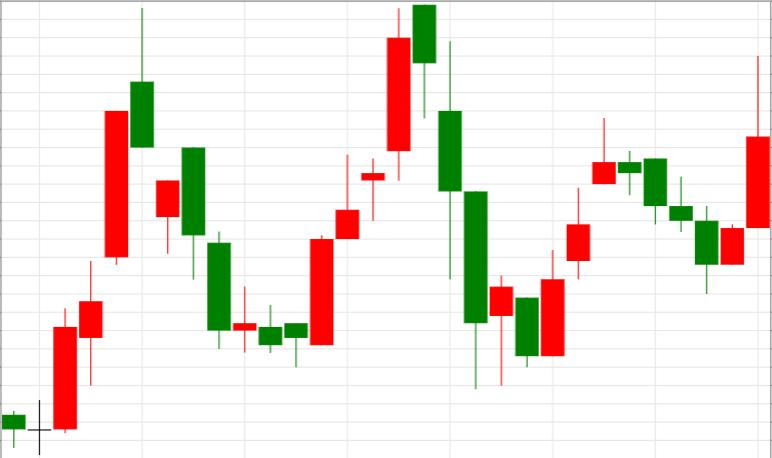three_black_crows_fall: (309, 4, 487, 389)
